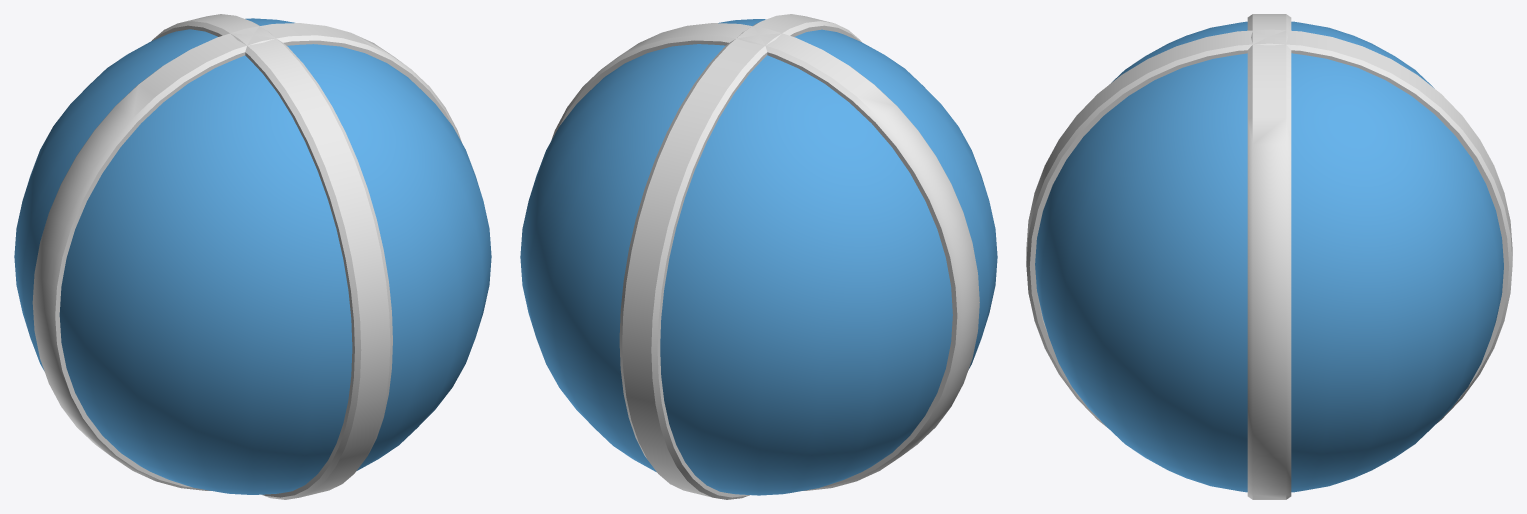
The model's file is int_sphere.fbx.
3 views of the same model, side by side, from view 1: azimuth 30°, elevation 25°; view 2: azimuth 150°, elevation 25°; view 3: azimuth 270°, elevation 25° (orthographic).
Parts seen in each view (by area): view 1: Sphere; view 2: Sphere; view 3: Sphere.
Boxes of the visible parts, x1,y1,x2,y2 form: Sphere: (14, 14, 491, 499); Sphere: (520, 14, 997, 499); Sphere: (1026, 14, 1512, 499).
Size of the model in its own units: 122 by 122 by 122.
